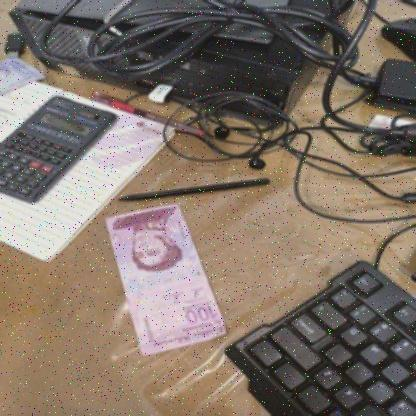one_hundred-front-vef: (105, 202, 228, 356)
